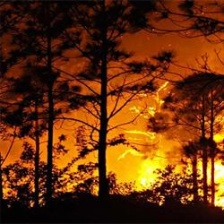fire: (129, 105, 224, 206)
